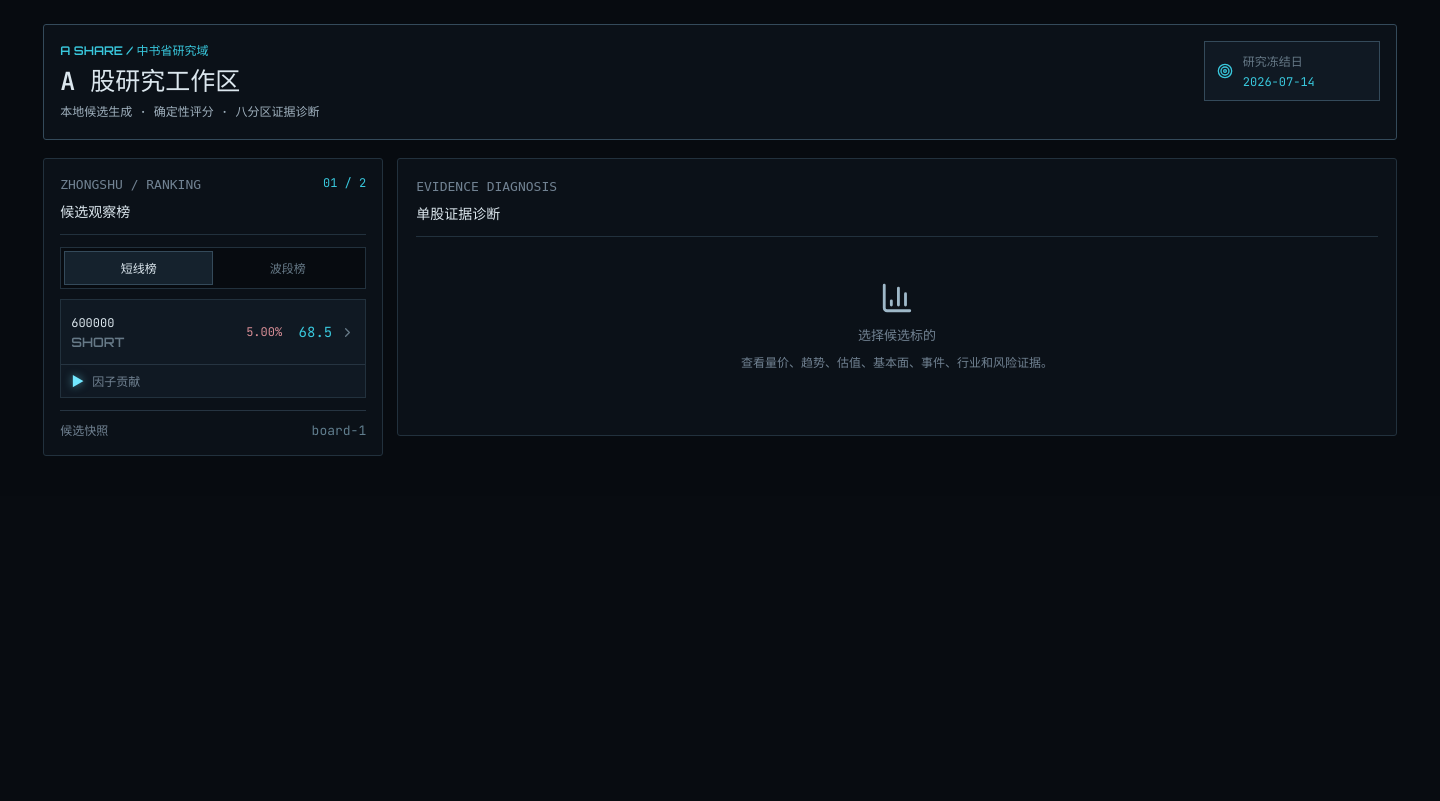
Scenario: AShareResearchView › returns diagnosis to the explicit idle state when switching rankings
Click the button "600000 SHORT 5.00% 68.5": point(93, 323) x1=61 y1=300 x2=365 y2=364
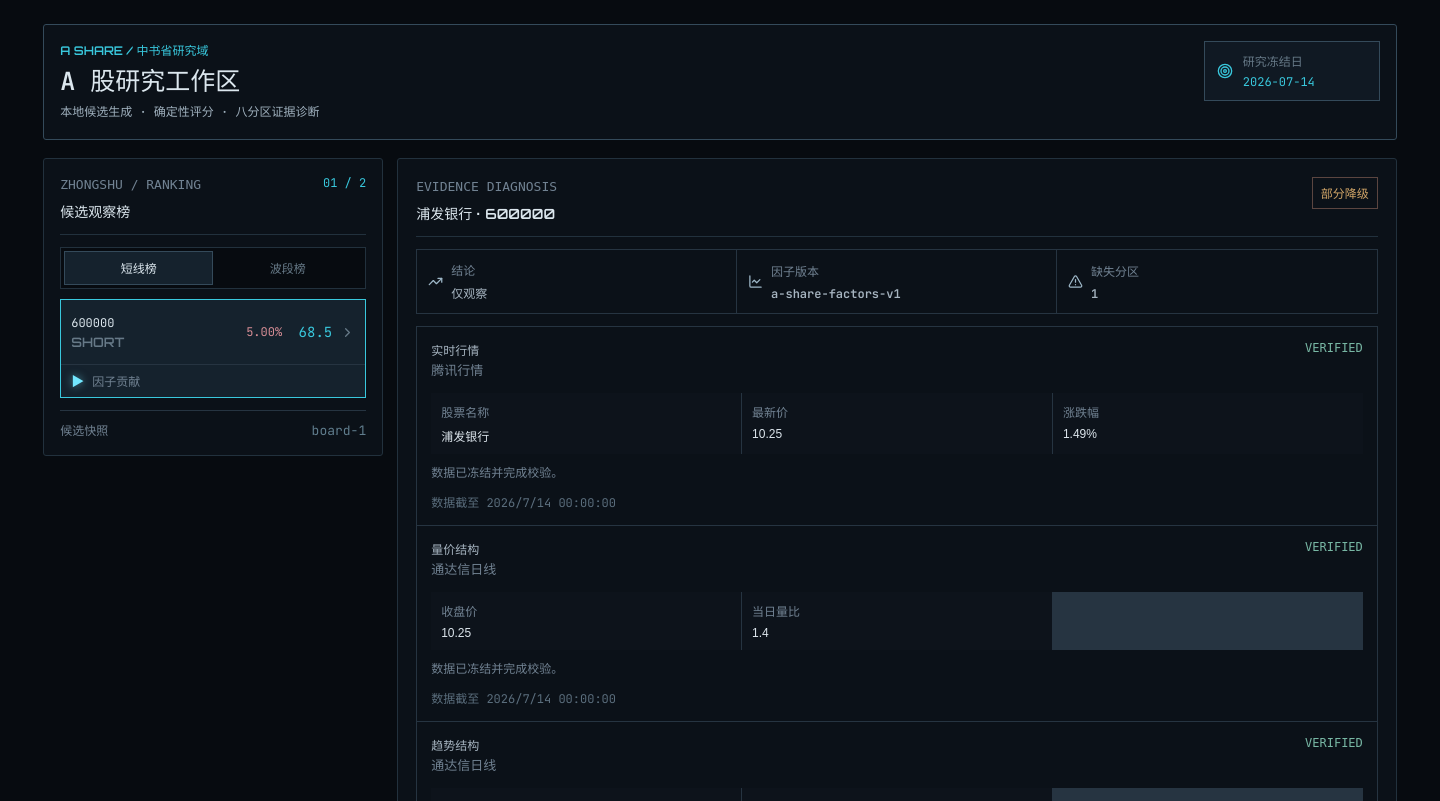
Click the tab "波段榜": point(288, 268) x1=213 y1=251 x2=362 y2=285
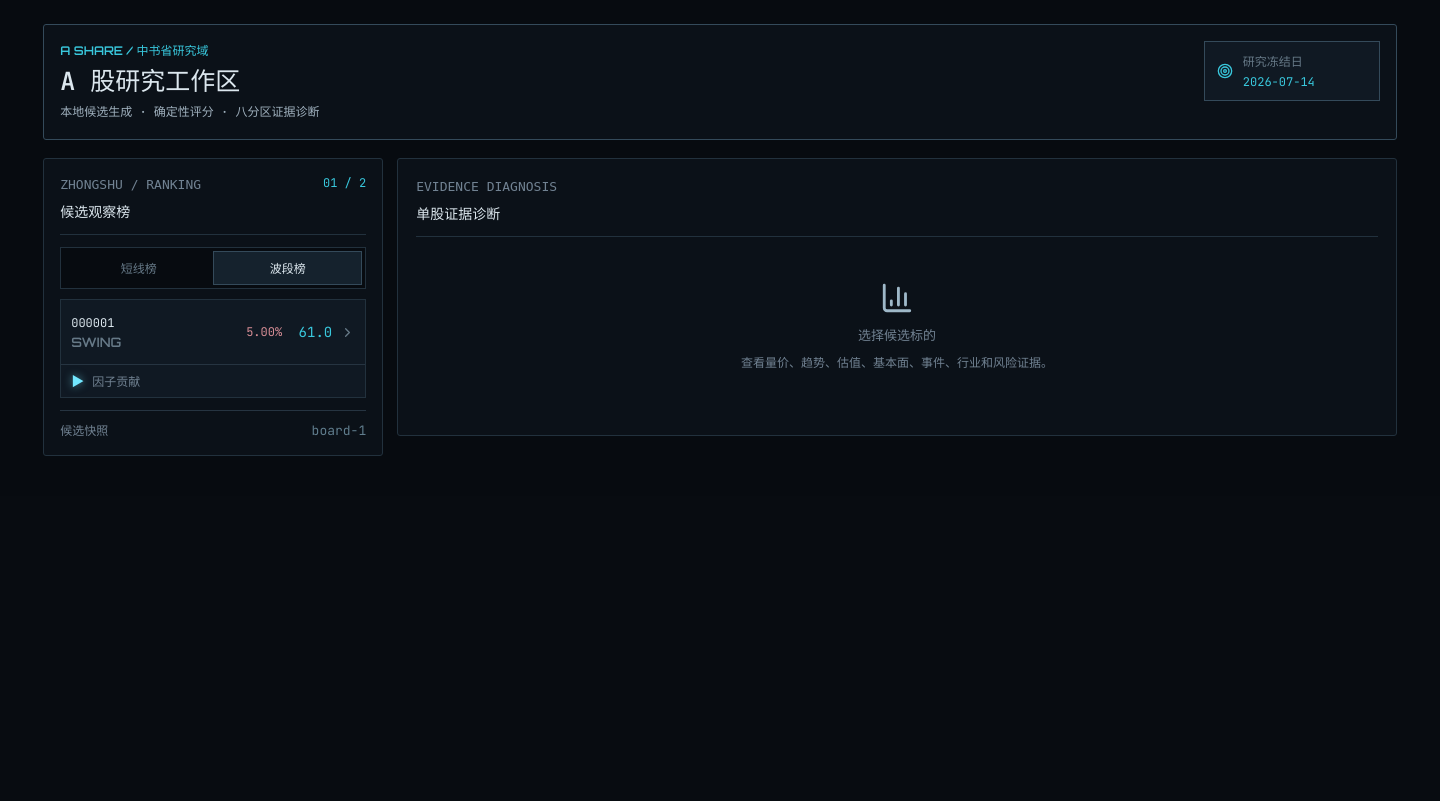
Now the text "选择候选标的" is shown, box x1=858 y1=325 x2=936 y2=344
